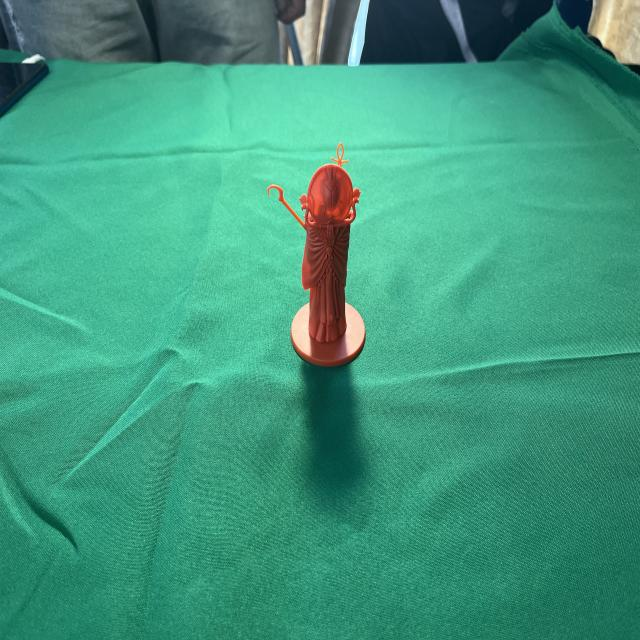amon: (264, 137, 370, 370)
